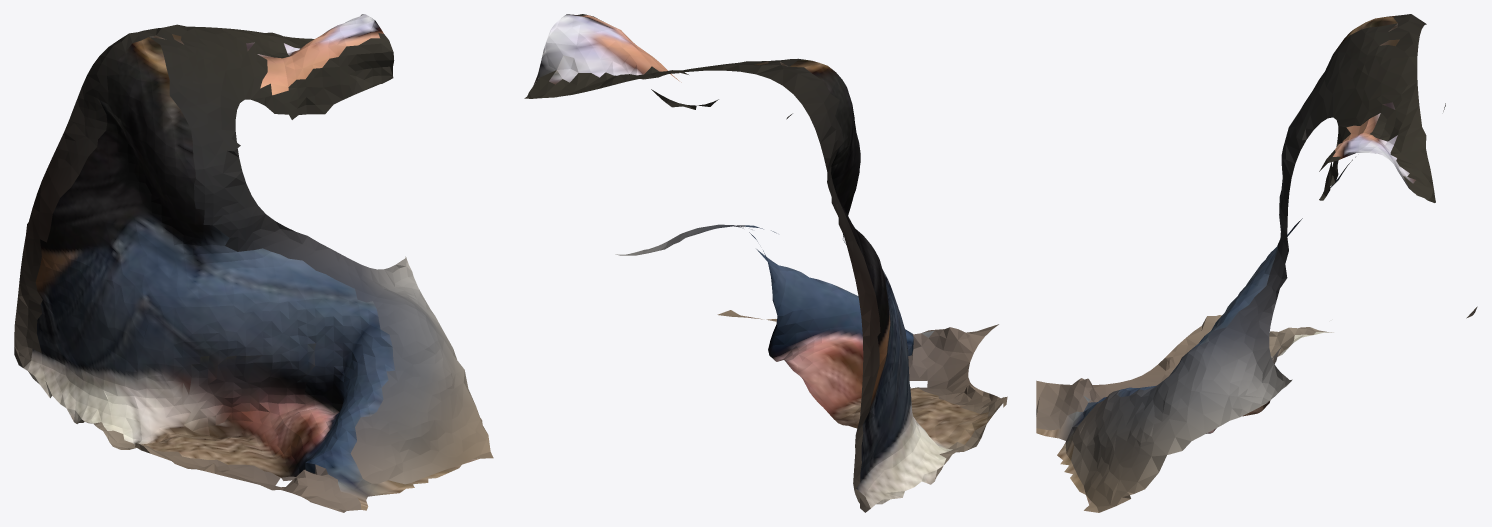
3 views of the same model, side by side, from view 1: azimuth 30°, elevation 25°; view 2: azimuth 150°, elevation 25°; view 3: azimuth 270°, elevation 25° (orthographic). The views are drawn at different scales.
Bounding box in the file's own units: 0.4772 × 0.5439 × 0.5621.
1 material, 1 textured.
